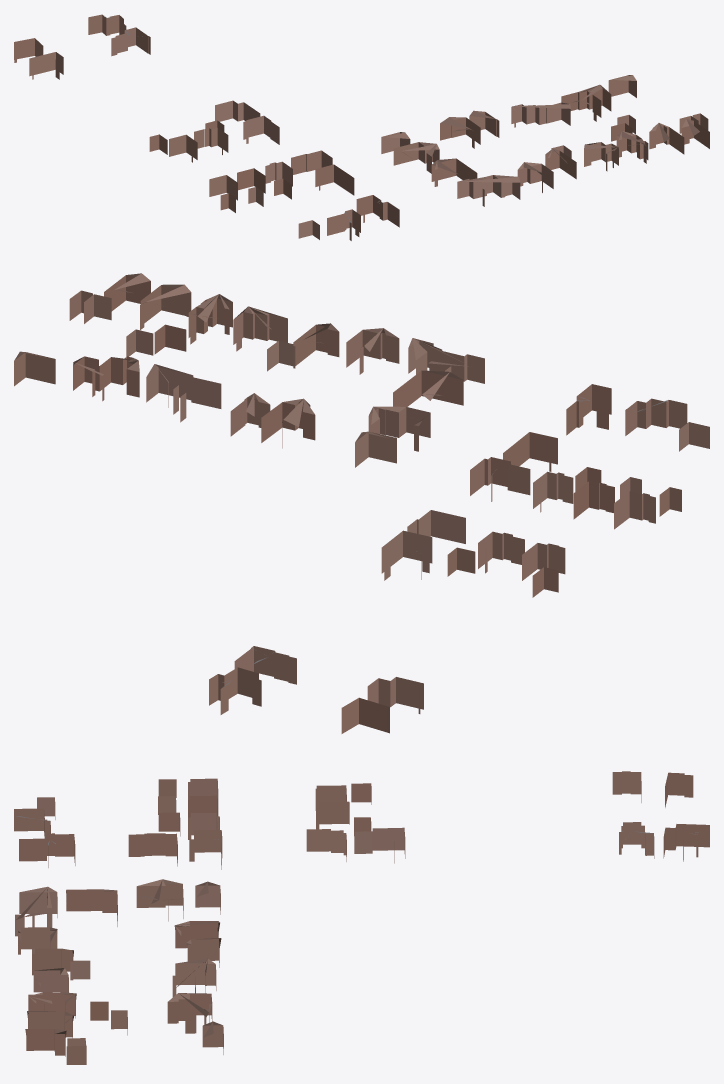
The model's file is c_1644_17822_buildings_residential.glb.
3 views of the same model, one above another, from view 1: azimuth 30°, elevation 25°; view 2: azimuth 150°, elevation 25°; view 3: azimuth 270°, elevation 25° (orthographic). The views are drawn at different scales.
Parts seen in each view (by area): view 1: geometry_0; view 2: geometry_0; view 3: geometry_0.
Boxes of the visible parts, x1,y1,x2,y2 form: geometry_0: (14,14,709,240); geometry_0: (14,273,709,733); geometry_0: (14,771,709,1064).
Bounding box in the file's own units: 251 × 10.94 × 267.
